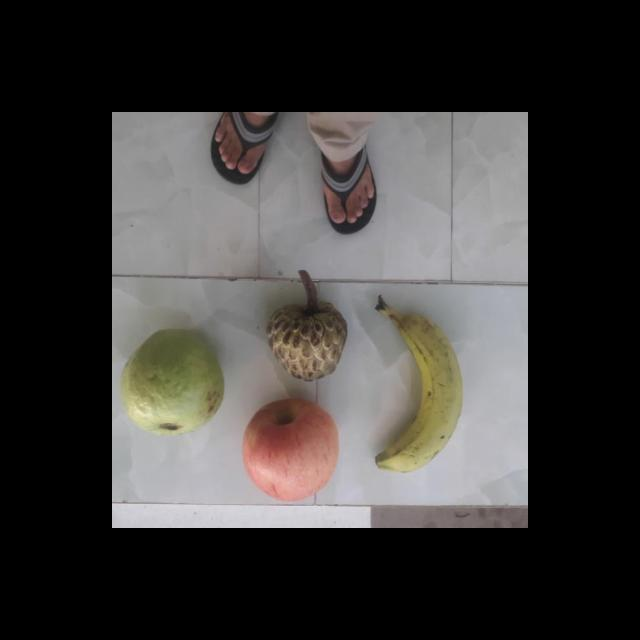Sakya fruit: (265, 296, 352, 386)
apple: (237, 400, 341, 500)
banana: (372, 308, 461, 472)
guava: (117, 332, 221, 434)
